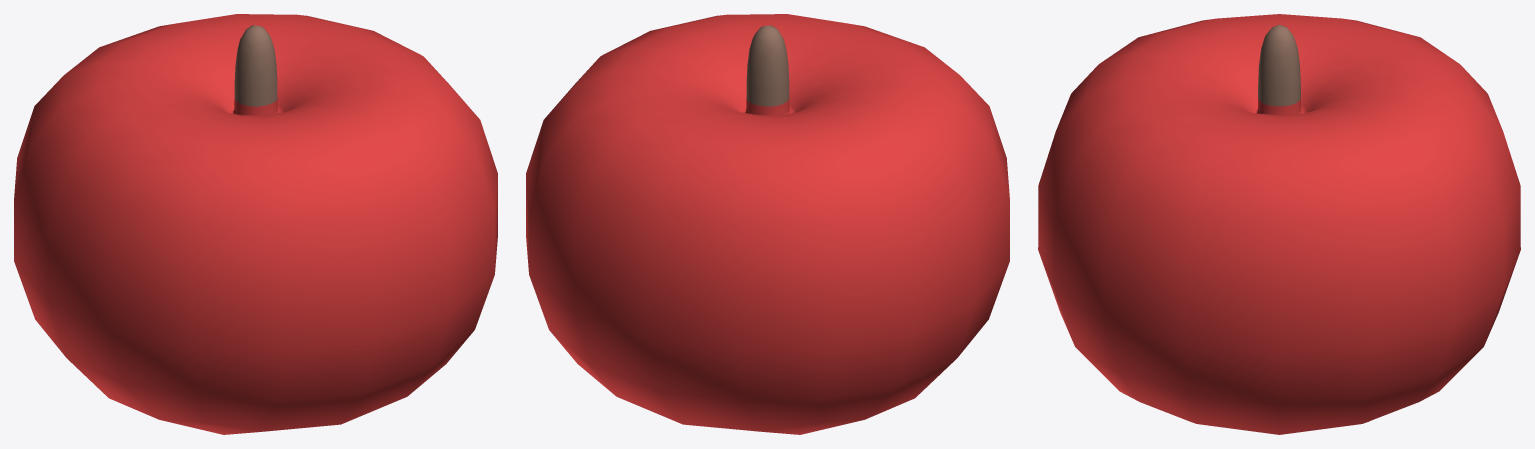
Rendered from apple1.fbx.
3 renders of one model, left to right at view 1: azimuth 30°, elevation 25°; view 2: azimuth 150°, elevation 25°; view 3: azimuth 270°, elevation 25°, orthographic.
Visible parts, largest first — view 1: apple.001; view 2: apple.001; view 3: apple.001.
Boxes of the visible parts, <box> form: apple.001: <box>14,14,497,434</box>; apple.001: <box>526,14,1009,434</box>; apple.001: <box>1038,14,1520,434</box>.
Bounding box in the file's own units: 41.9 × 36.37 × 41.9.
